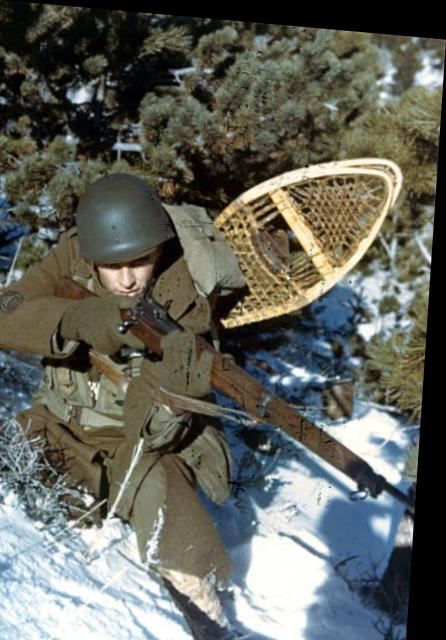other: (0, 167, 263, 590)
